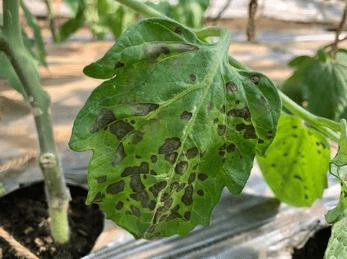Bacterial Spot: (64, 13, 281, 244), (253, 111, 331, 213)
